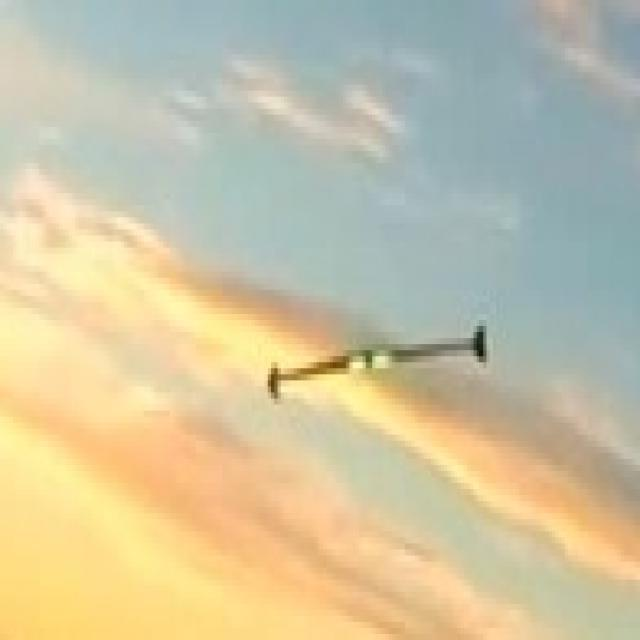Airplane: (262, 322, 500, 421)
